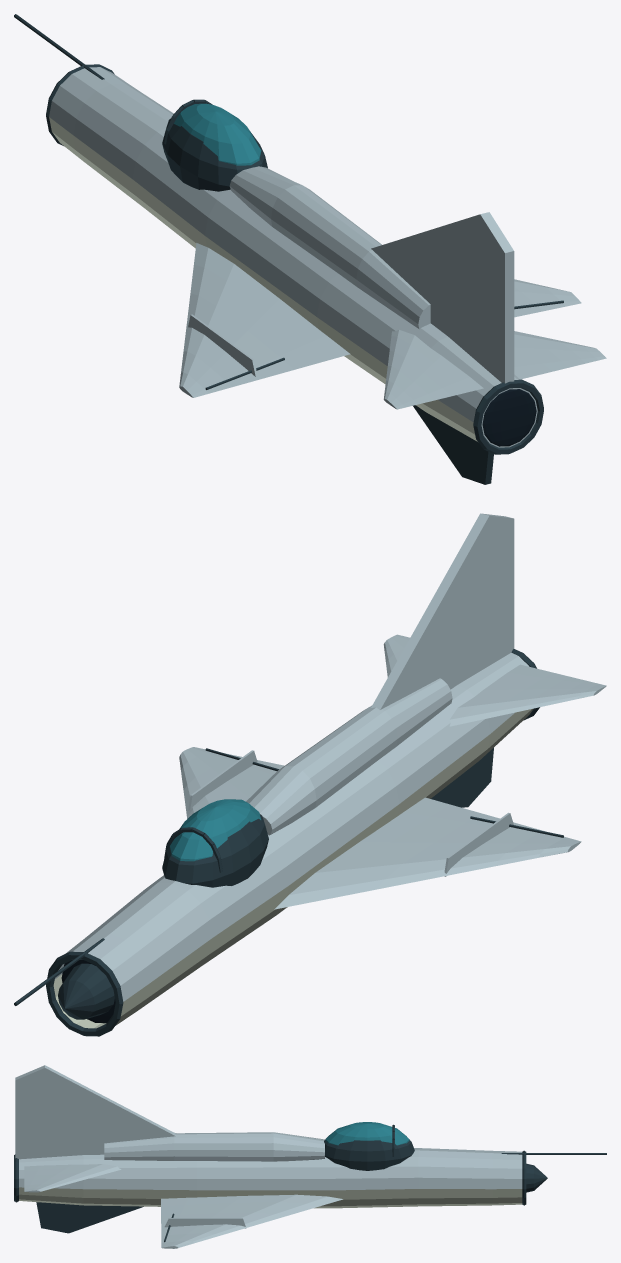
The model's file is archive-mig21pf.glb.
The picture shows the model from 3 angles, top to bottom: view 1: azimuth 30°, elevation 25°; view 2: azimuth 150°, elevation 25°; view 3: azimuth 270°, elevation 25°; orthographic projection. The views are drawn at different scales.
Visible parts, largest first — view 1: archive-mig21pf-fuselage.007-geometry, archive-mig21pf-archive-mig21pf-geometry, archive-mig21pf-vertical_tail.007-geometry, archive-mig21pf-wing_0_-1.007-geometry, archive-mig21pf-tailplane.014-geometry, archive-mig21pf-tailplane.015-geometry, archive-mig21pf-ventral_fin-geometry, archive-mig21pf-wing_0_1.007-geometry, archive-mig21pf-wing_fences-geometry; view 2: archive-mig21pf-fuselage.007-geometry, archive-mig21pf-archive-mig21pf-geometry, archive-mig21pf-vertical_tail.007-geometry, archive-mig21pf-wing_0_-1.007-geometry, archive-mig21pf-tailplane.014-geometry, archive-mig21pf-wing_0_1.007-geometry, archive-mig21pf-wing_fences-geometry, archive-mig21pf-ventral_fin-geometry; view 3: archive-mig21pf-fuselage.007-geometry, archive-mig21pf-archive-mig21pf-geometry, archive-mig21pf-vertical_tail.007-geometry, archive-mig21pf-wing_0_1.007-geometry, archive-mig21pf-ventral_fin-geometry, archive-mig21pf-tailplane.015-geometry, archive-mig21pf-wing_fences-geometry.
Boxes of the visible parts, x1=… form: archive-mig21pf-fuselage.007-geometry: x1=49, y1=67, x2=537, y2=447; archive-mig21pf-archive-mig21pf-geometry: x1=46, y1=64, x2=543, y2=454; archive-mig21pf-vertical_tail.007-geometry: x1=371, y1=212, x2=514, y2=390; archive-mig21pf-wing_0_-1.007-geometry: x1=179, y1=243, x2=350, y2=397; archive-mig21pf-tailplane.014-geometry: x1=383, y1=330, x2=483, y2=409; archive-mig21pf-tailplane.015-geometry: x1=514, y1=331, x2=606, y2=379; archive-mig21pf-ventral_fin-geometry: x1=413, y1=405, x2=493, y2=484; archive-mig21pf-wing_0_1.007-geometry: x1=514, y1=279, x2=581, y2=317; archive-mig21pf-wing_fences-geometry: x1=188, y1=314, x2=257, y2=376; archive-mig21pf-fuselage.007-geometry: x1=53, y1=652, x2=533, y2=1028; archive-mig21pf-archive-mig21pf-geometry: x1=46, y1=649, x2=539, y2=1036; archive-mig21pf-vertical_tail.007-geometry: x1=371, y1=513, x2=514, y2=709; archive-mig21pf-wing_0_-1.007-geometry: x1=274, y1=797, x2=581, y2=909; archive-mig21pf-tailplane.014-geometry: x1=449, y1=664, x2=606, y2=726; archive-mig21pf-wing_0_1.007-geometry: x1=179, y1=747, x2=284, y2=818; archive-mig21pf-wing_fences-geometry: x1=188, y1=750, x2=513, y2=876; archive-mig21pf-ventral_fin-geometry: x1=431, y1=748, x2=493, y2=807; archive-mig21pf-fuselage.007-geometry: x1=19, y1=1148, x2=522, y2=1208; archive-mig21pf-archive-mig21pf-geometry: x1=14, y1=1122, x2=547, y2=1205; archive-mig21pf-vertical_tail.007-geometry: x1=15, y1=1065, x2=175, y2=1159; archive-mig21pf-wing_0_1.007-geometry: x1=161, y1=1194, x2=342, y2=1248; archive-mig21pf-ventral_fin-geometry: x1=36, y1=1202, x2=143, y2=1233; archive-mig21pf-tailplane.015-geometry: x1=24, y1=1164, x2=121, y2=1192; archive-mig21pf-wing_fences-geometry: x1=165, y1=1218, x2=246, y2=1228.
Size of the model in its own units: 2.72 by 1.86 by 6.02.
